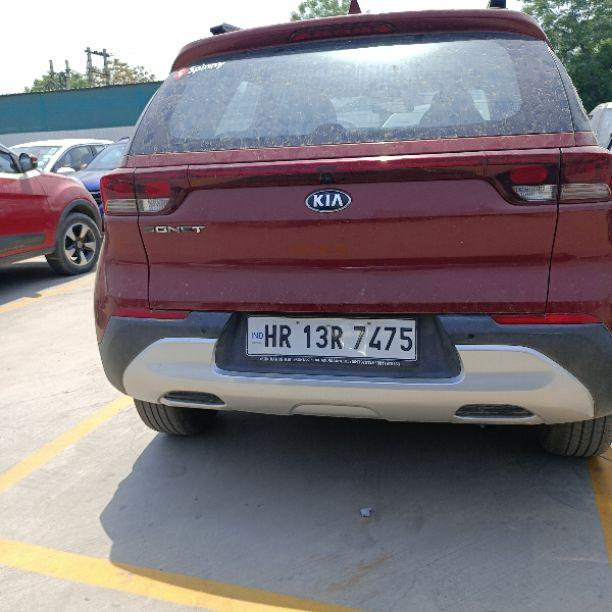license_plate: (243, 312, 419, 364)
